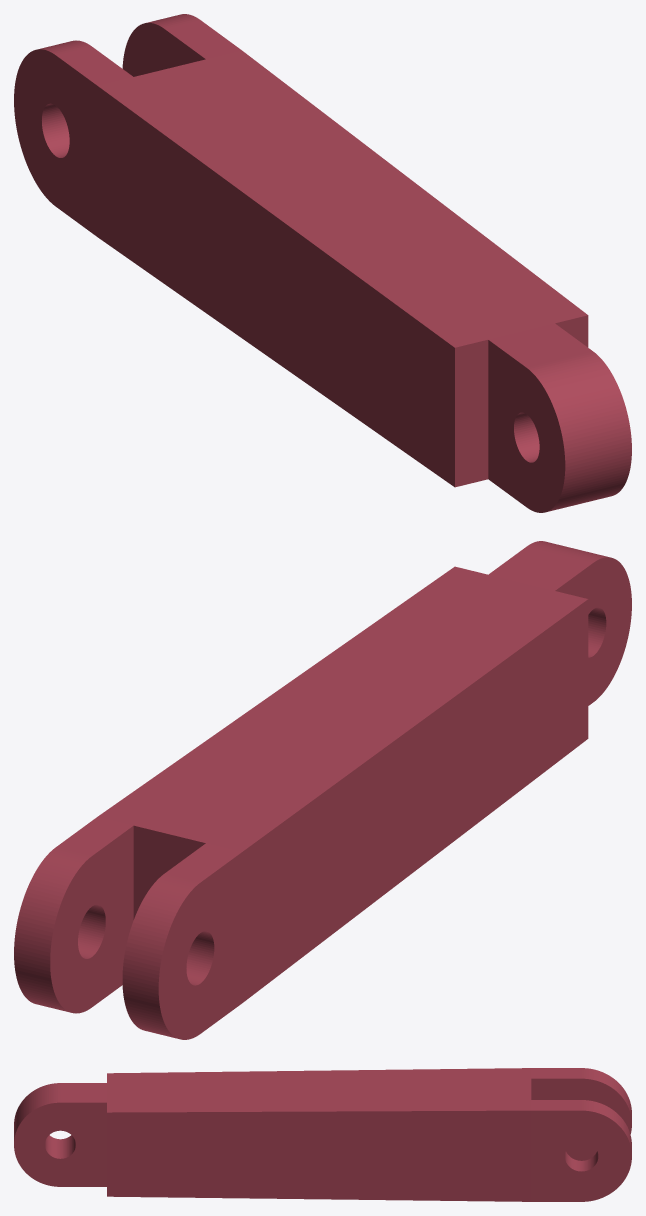
3 views of the same model, one above another, from view 1: azimuth 30°, elevation 25°; view 2: azimuth 150°, elevation 25°; view 3: azimuth 270°, elevation 25° (orthographic). The views are drawn at different scales.
Visible parts, largest first — view 1: node; view 2: node; view 3: node.
Boxes of the visible parts, x1,y1,x2,y2 form: node: (14, 14, 631, 512); node: (14, 541, 631, 1039); node: (14, 1068, 631, 1201).
Bounding box in the file's own units: 0.0712 × 0.0712 × 0.4369.
